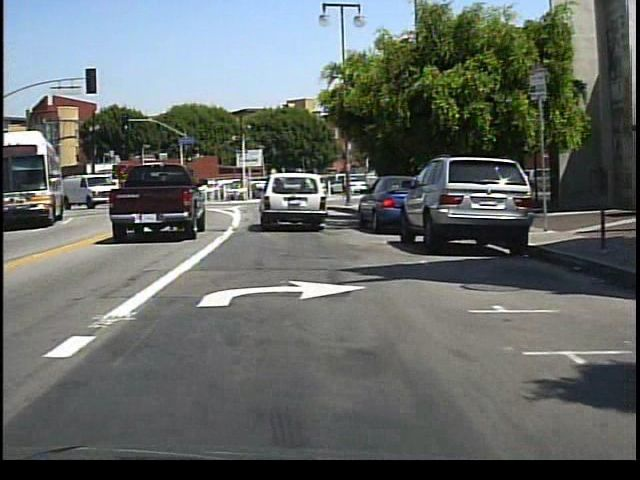person: (343, 176, 346, 202)
